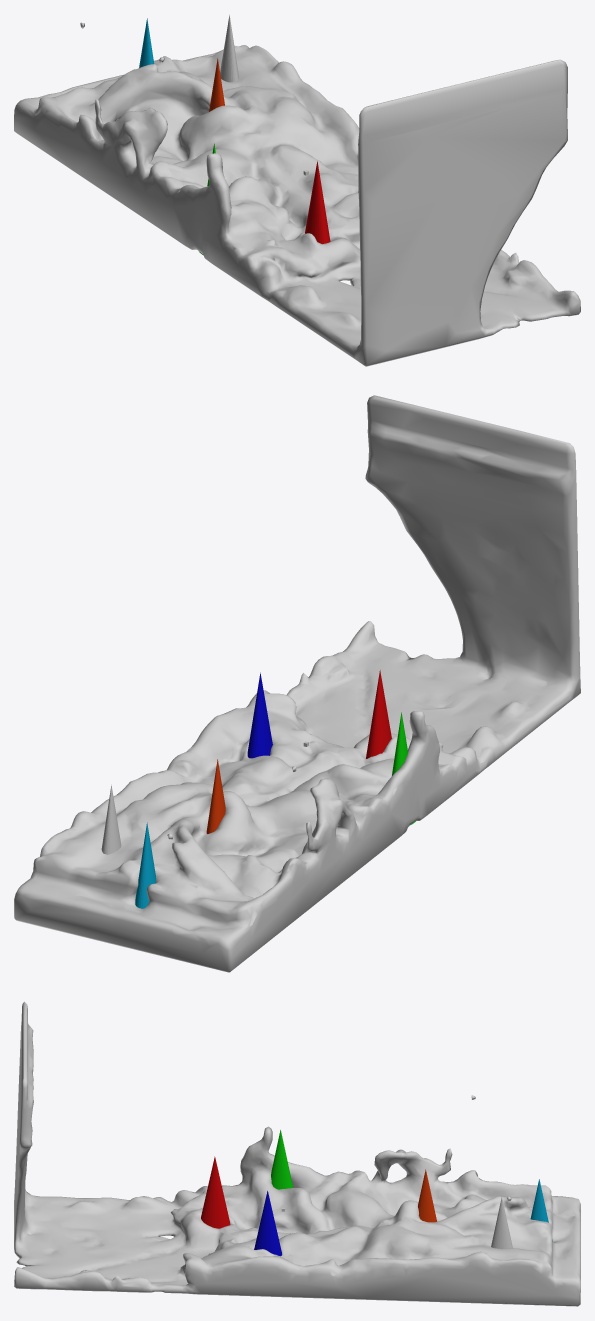
3 renders of one model, top to bottom at view 1: azimuth 30°, elevation 25°; view 2: azimuth 150°, elevation 25°; view 3: azimuth 270°, elevation 25°, orthographic. The views are drawn at different scales.
Visible parts, largest first — view 1: Liquid_Domain, 円錐.001, 円錐; view 2: Liquid_Domain, 円錐.002, 円錐.001, 円錐.005, 円錐, 円錐.004; view 3: Liquid_Domain, 円錐.001, 円錐.002, 円錐.003, 円錐, 円錐.004, 円錐.005.
Part boxes in pixels (x1,y1,x2,y2): Liquid_Domain: (14, 22, 580, 366); 円錐.001: (305, 161, 330, 243); 円錐: (220, 15, 238, 82); Liquid_Domain: (14, 395, 580, 972); 円錐.002: (247, 672, 272, 758); 円錐.001: (366, 670, 391, 758); 円錐.005: (135, 822, 156, 908); 円錐: (101, 784, 121, 854); 円錐.004: (206, 759, 225, 833); Liquid_Domain: (14, 1001, 580, 1306); 円錐.001: (201, 1156, 229, 1228); 円錐.002: (254, 1191, 282, 1256); 円錐.003: (271, 1130, 293, 1189); 円錐: (491, 1197, 512, 1248); 円錐.004: (418, 1169, 436, 1222); 円錐.005: (530, 1179, 552, 1241).
Size of the model in its own units: 129 by 158 by 361.
